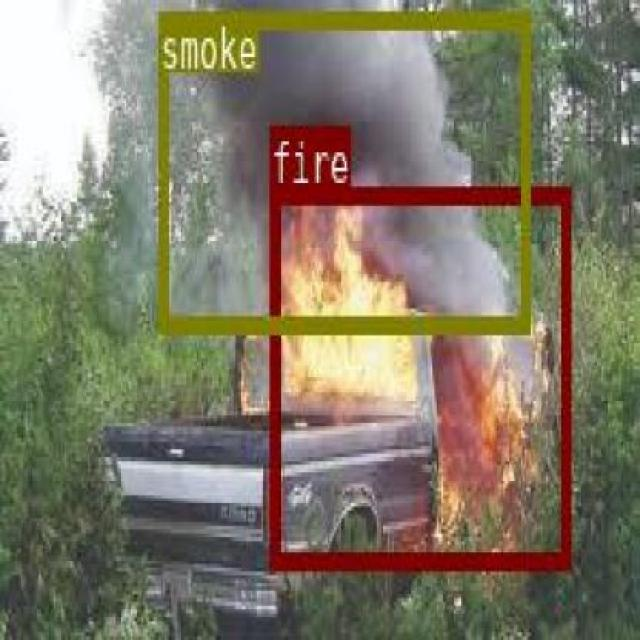Fire: (268, 185, 568, 564)
Smoke: (157, 9, 528, 332)
